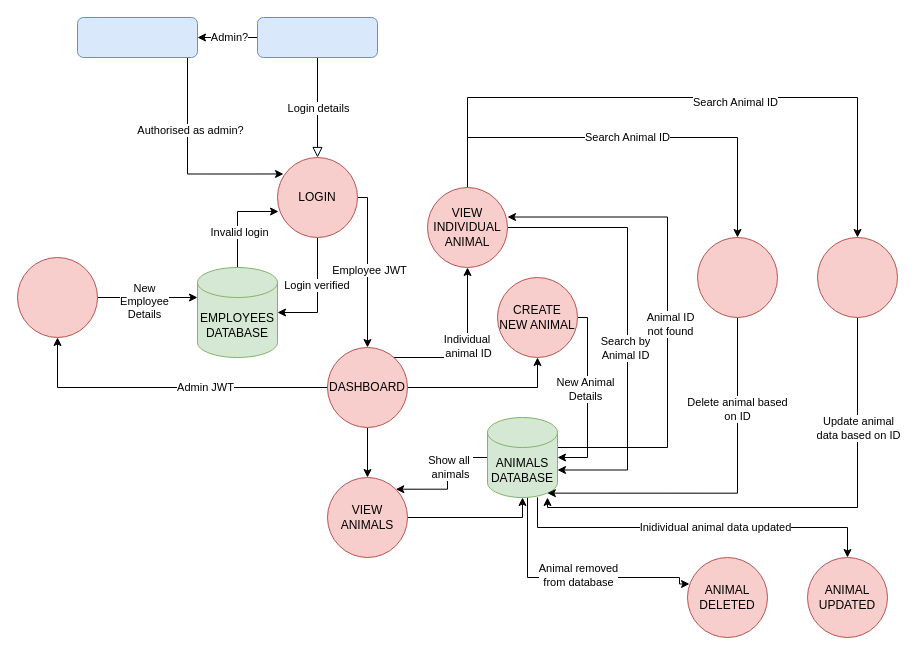
The diagram is 917 pixels wide and 655 high, and some of its shapes have lost their labels. Each missing label, with the centre of its shape:
"ADMIN" goes at point (137, 37).
"CREATE NEW EMPLOYEE" goes at point (57, 297).
"DELETE ANIMAL" goes at point (737, 277).
"EMPLOYEE" goes at point (317, 37).
"UPDATE ANIMAL" goes at point (857, 277).
